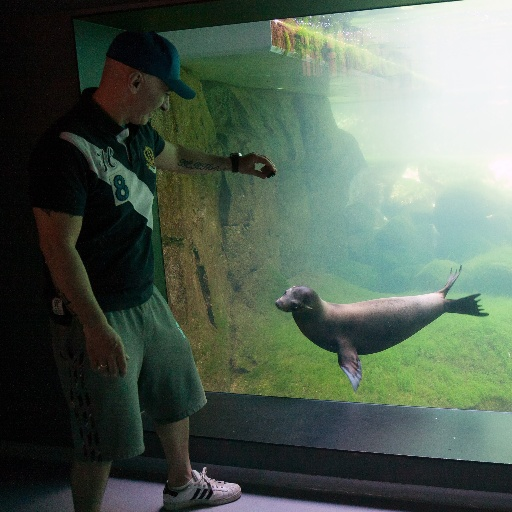hand: (62, 307, 111, 395), (239, 150, 278, 180)
